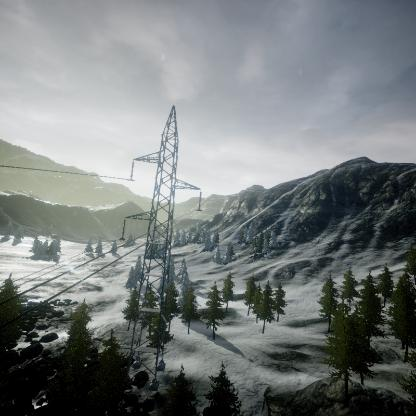tower: (119, 103, 203, 376)
